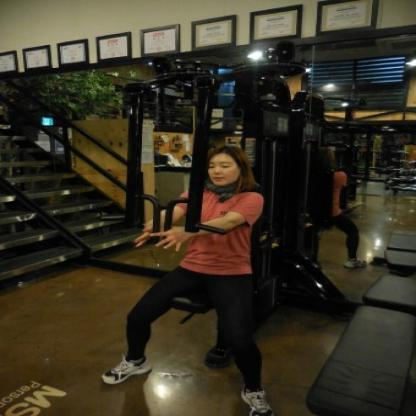chest fly machine: (47, 42, 415, 416)
